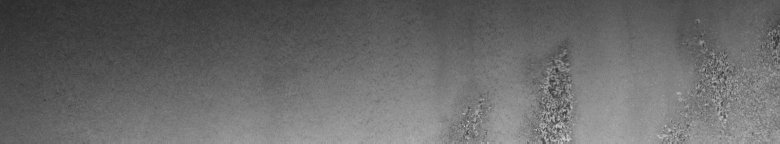hc: (460, 46, 574, 136)
